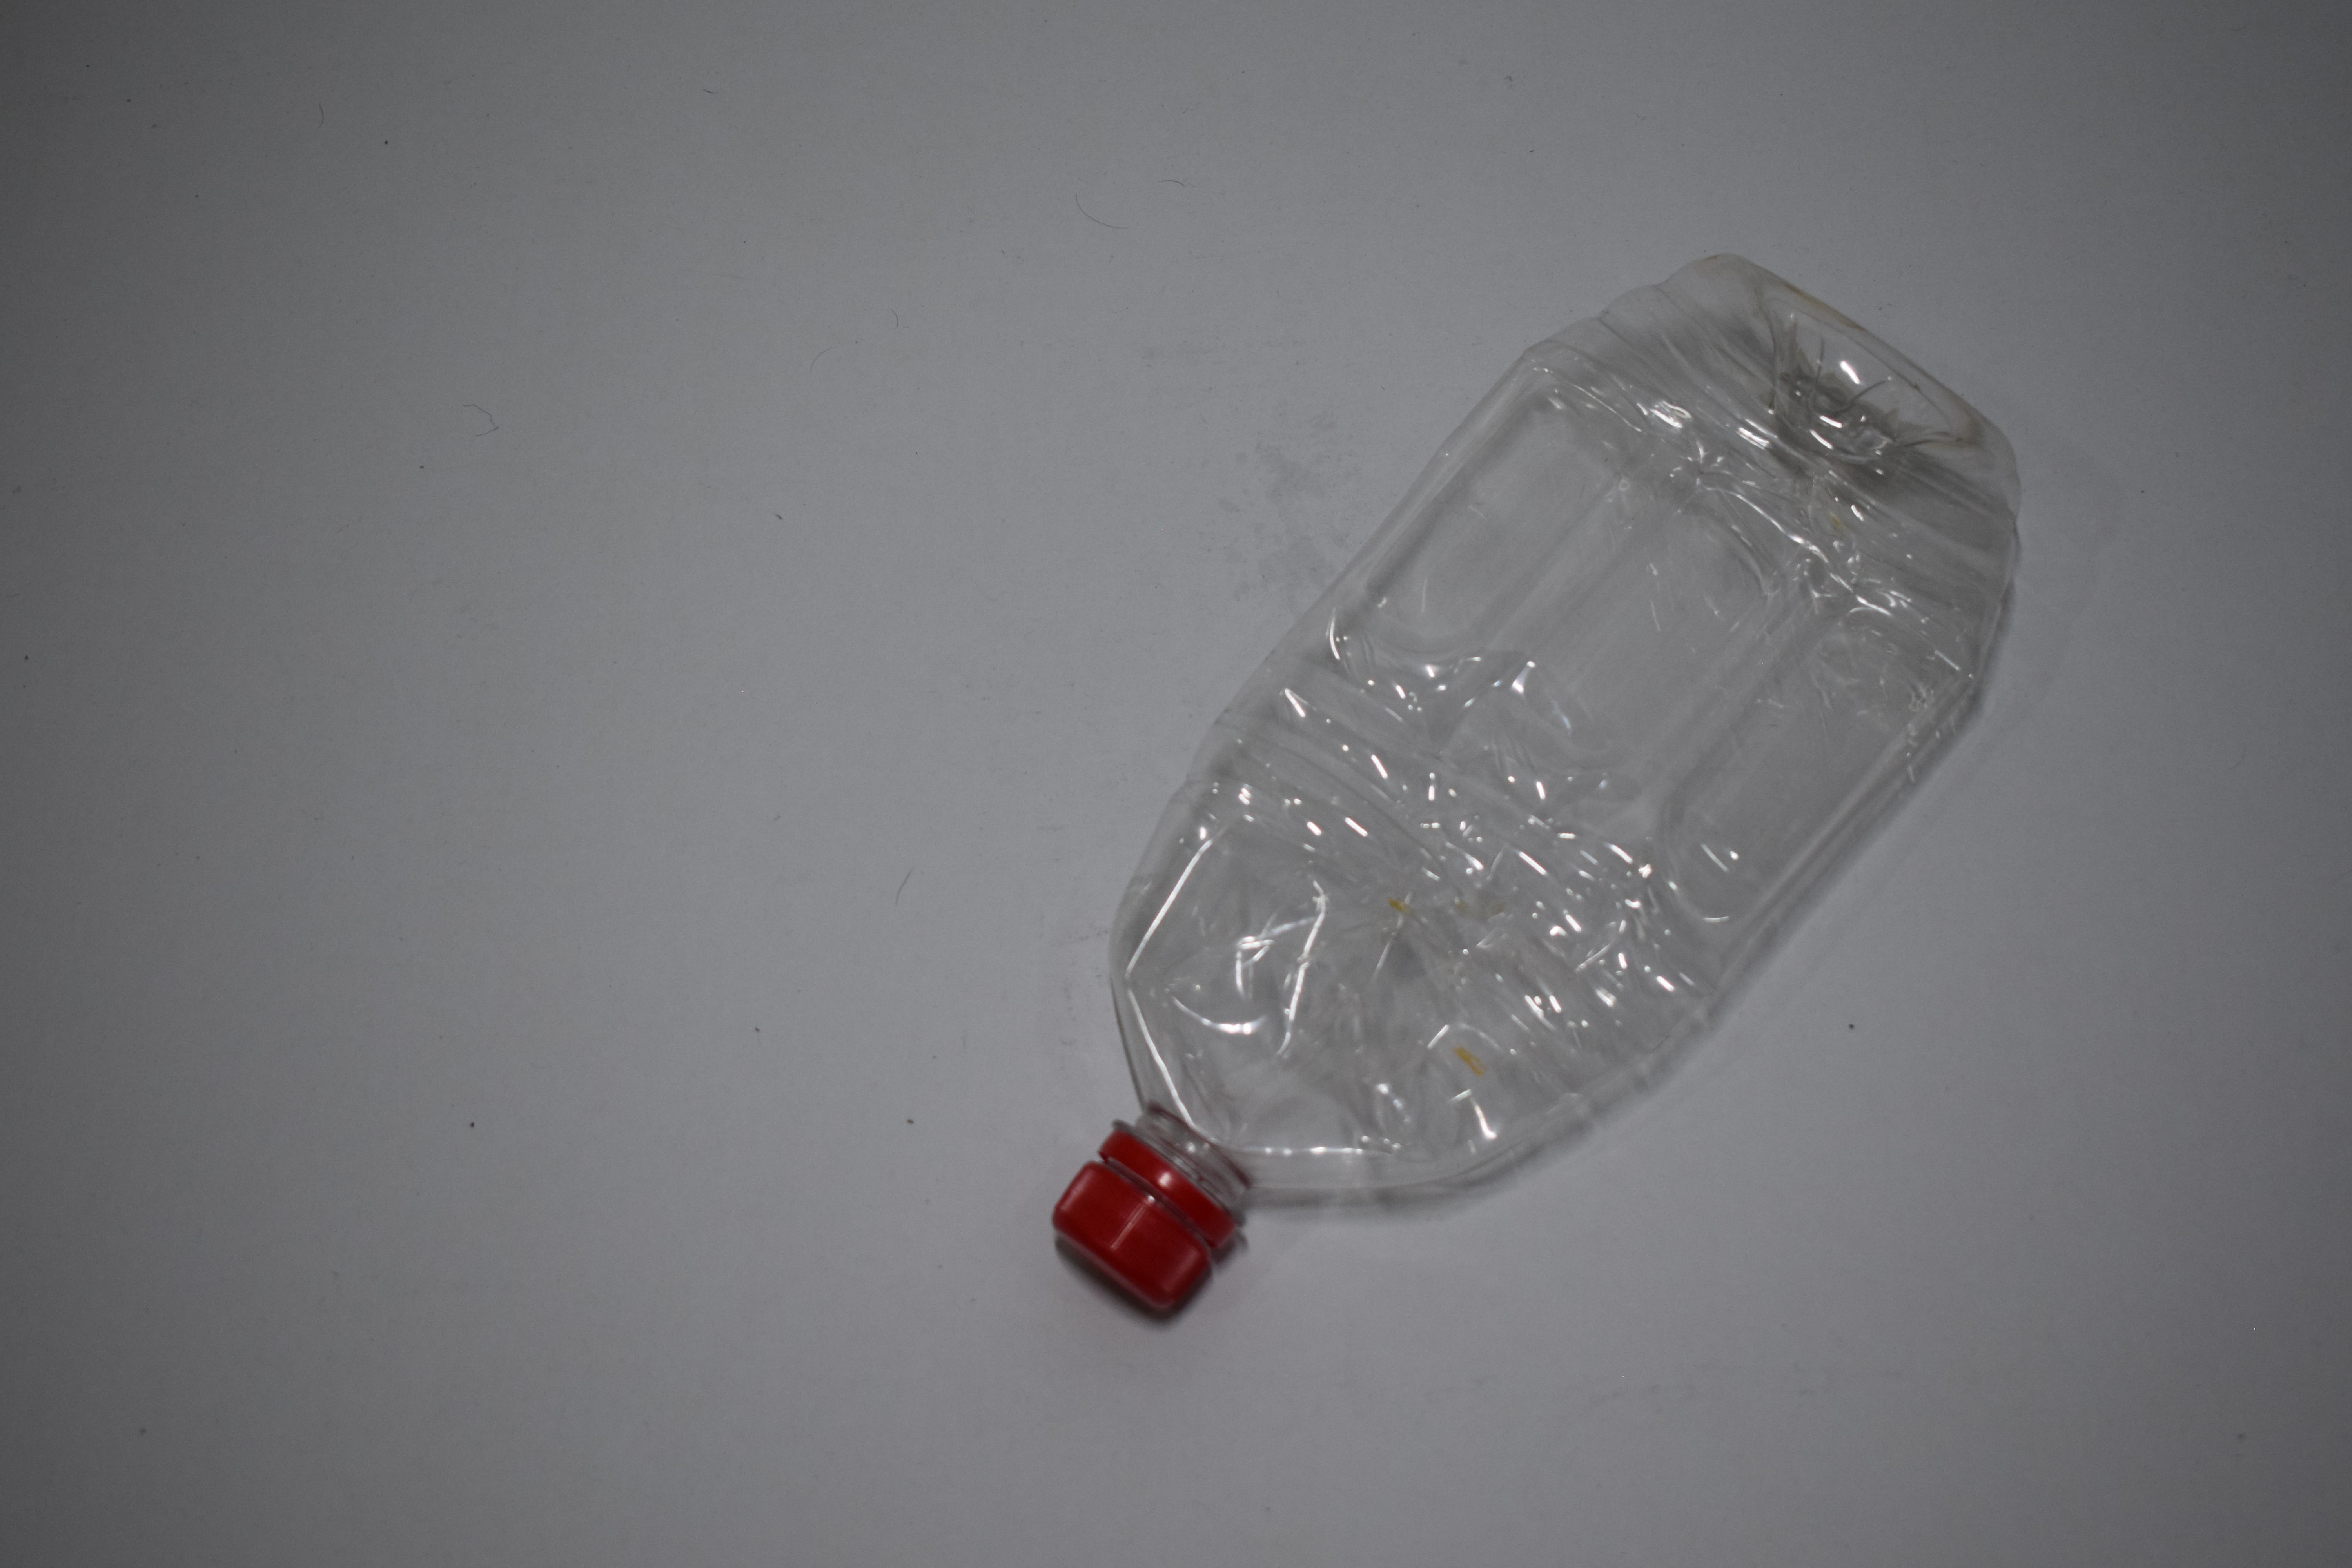bottle: (921, 0, 1911, 541)
